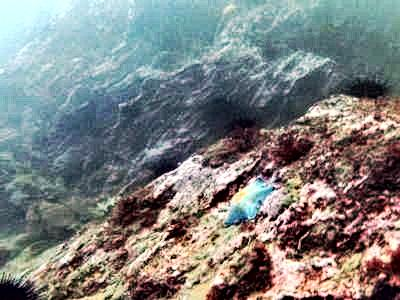urchin: (342, 74, 386, 99), (2, 271, 42, 297)
